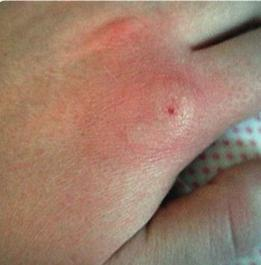Wasp: (129, 76, 214, 145)
